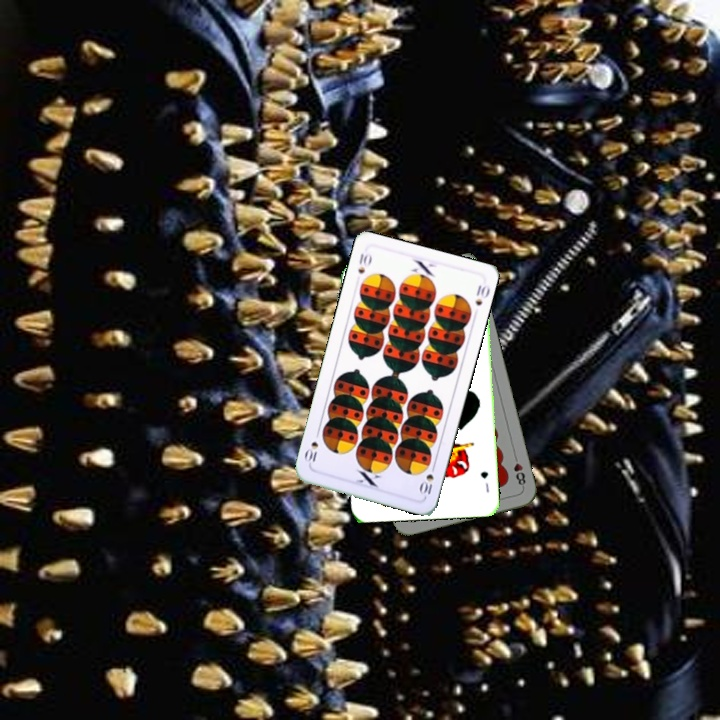GU: (477, 467, 492, 495)
H8: (510, 450, 528, 490)
S10: (415, 460, 438, 499), (354, 249, 374, 276)
